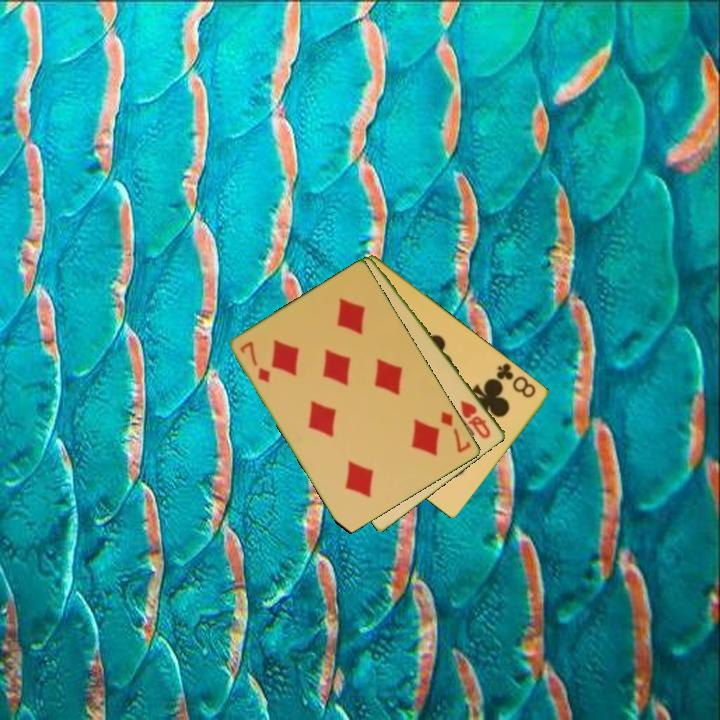7d: (437, 408, 474, 456), (237, 338, 274, 386)
8c: (493, 359, 539, 401)
Qh: (457, 396, 494, 442)
